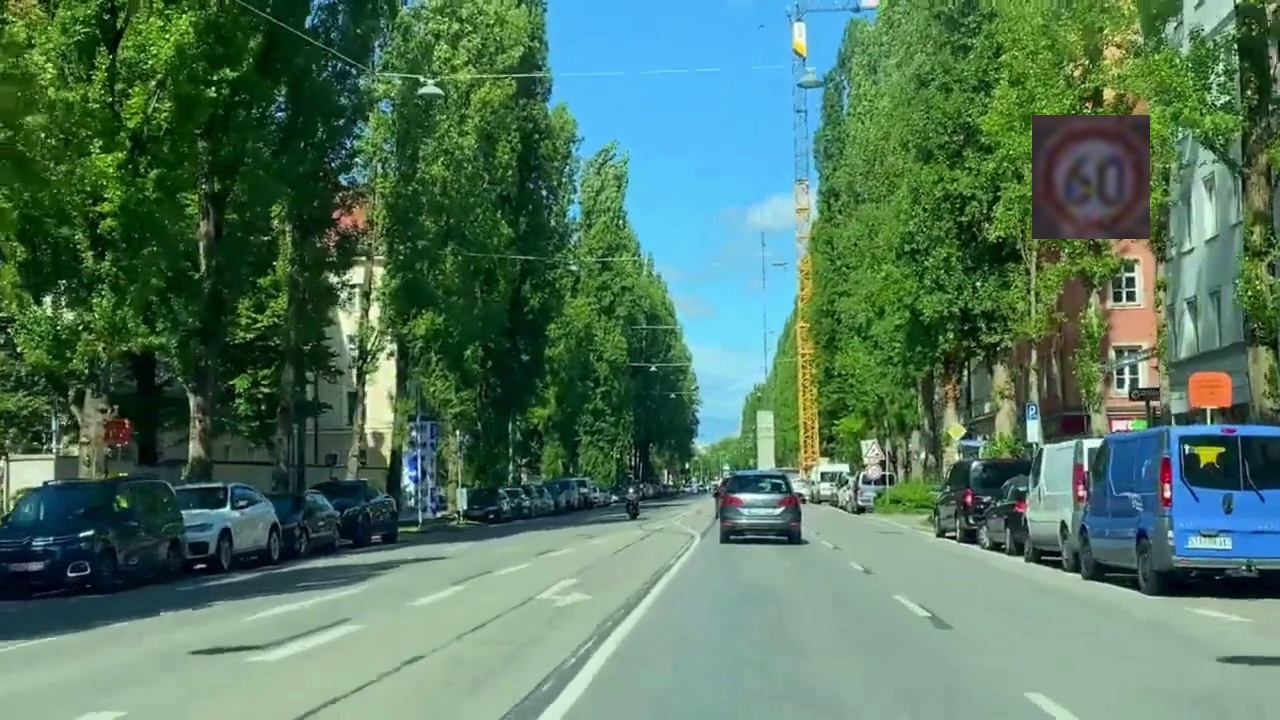Speed 60: (1032, 115, 1150, 239)
